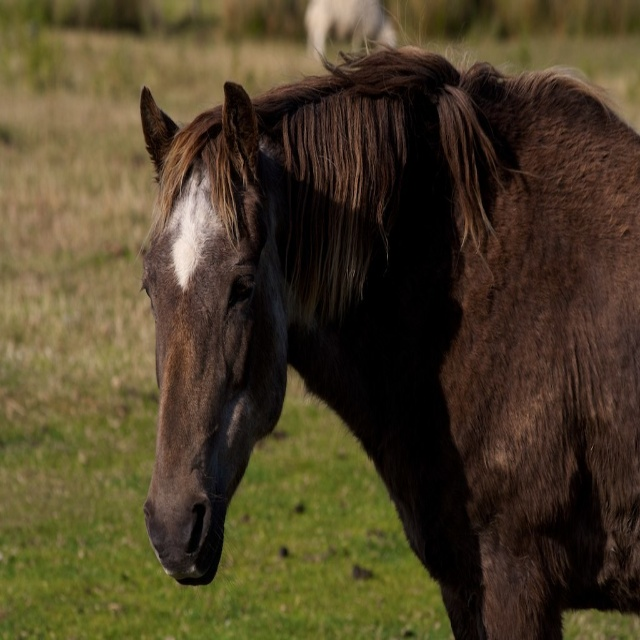Horse: (142, 0, 639, 639)
